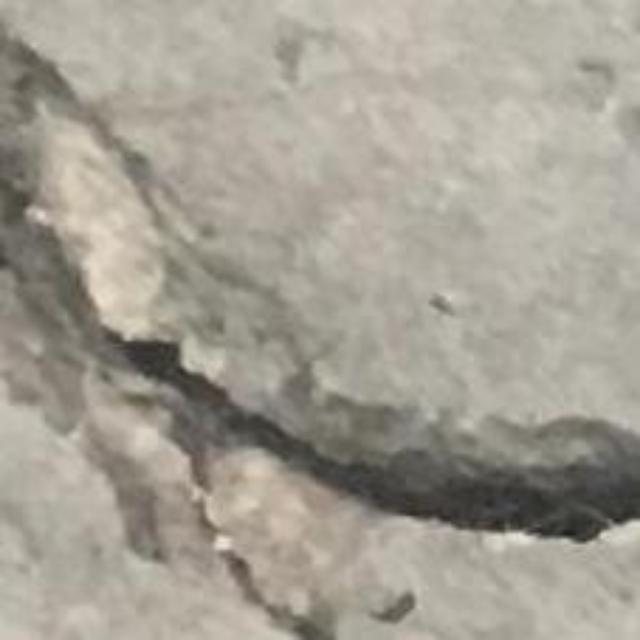crack: (0, 17, 639, 639)
